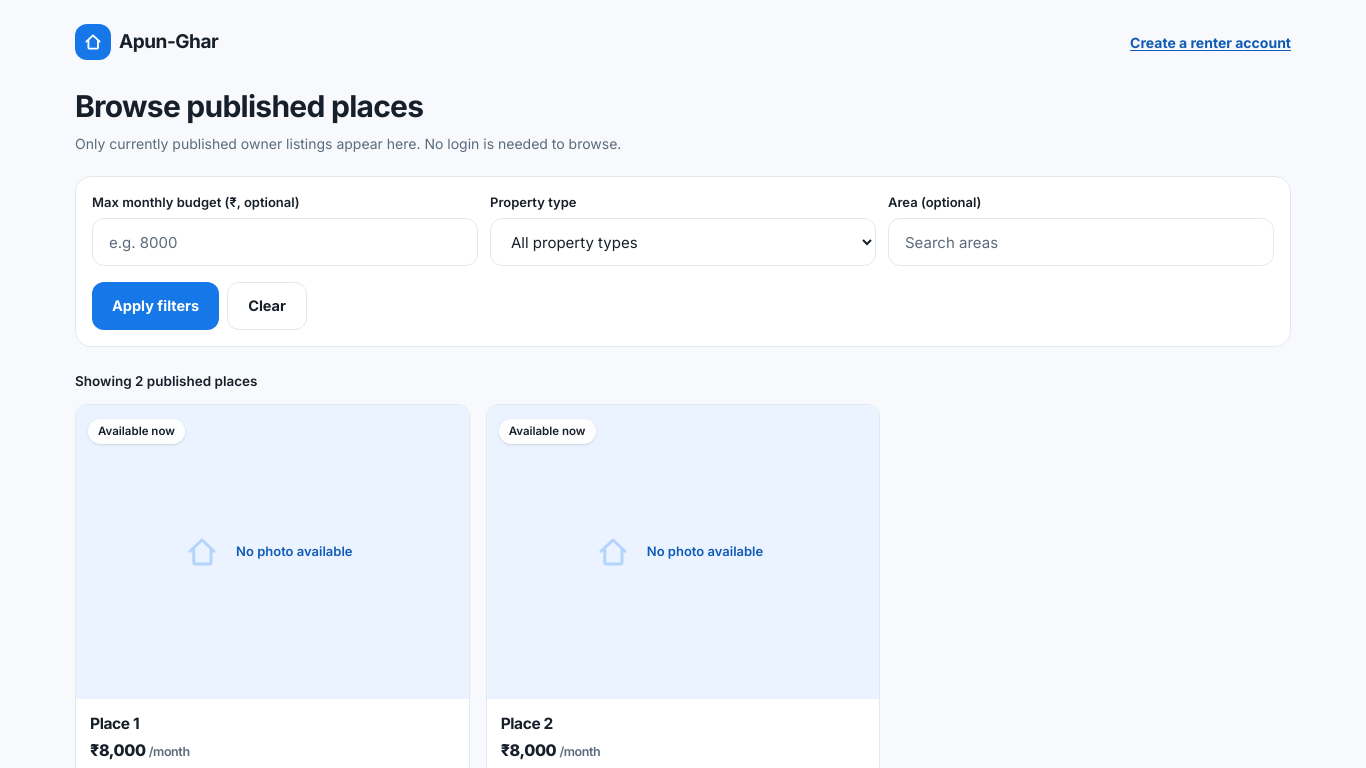
public browse page › clears the validation error
Check: the text "Showing 2 published places" is shown, box x1=75 y1=373 x2=258 y2=389
Type "abc" into the field with placeholder "e.g. 8000" at (285, 242), box x1=92 y1=218 x2=478 y2=266
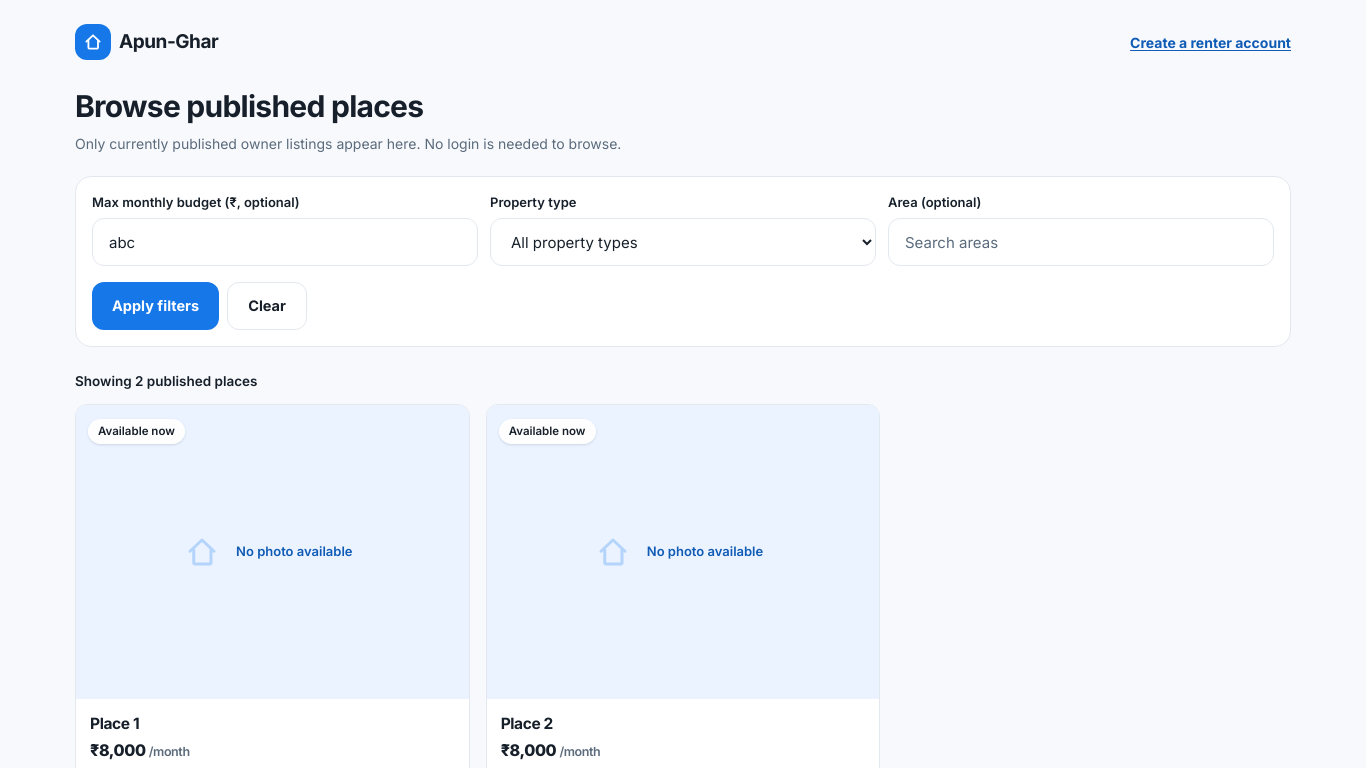
Click the button "Apply filters" at (156, 306), box x1=92 y1=282 x2=219 y2=330
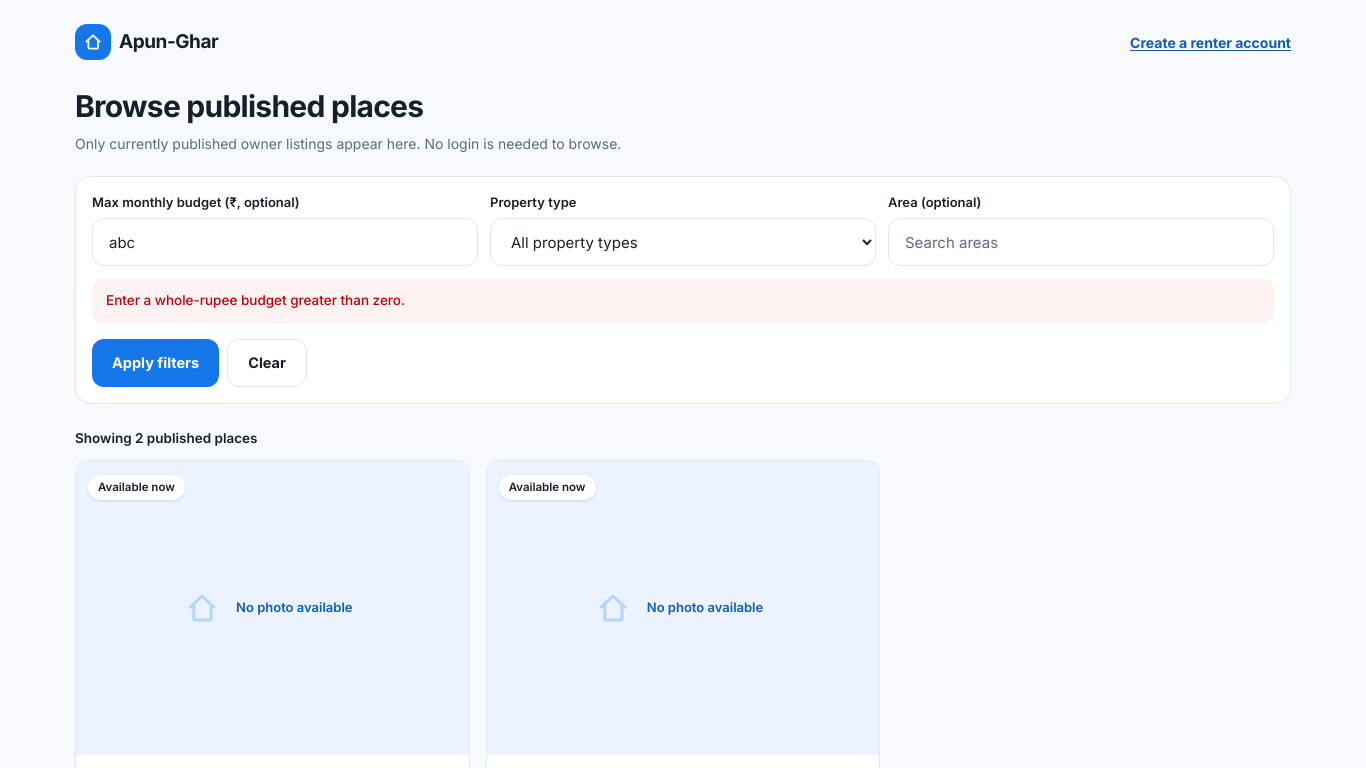
Check: the text "Enter a whole-rupee budget greater than zero." is shown, box x1=92 y1=278 x2=1274 y2=323
Click the button "Clear" at (267, 362), box x1=227 y1=338 x2=307 y2=386
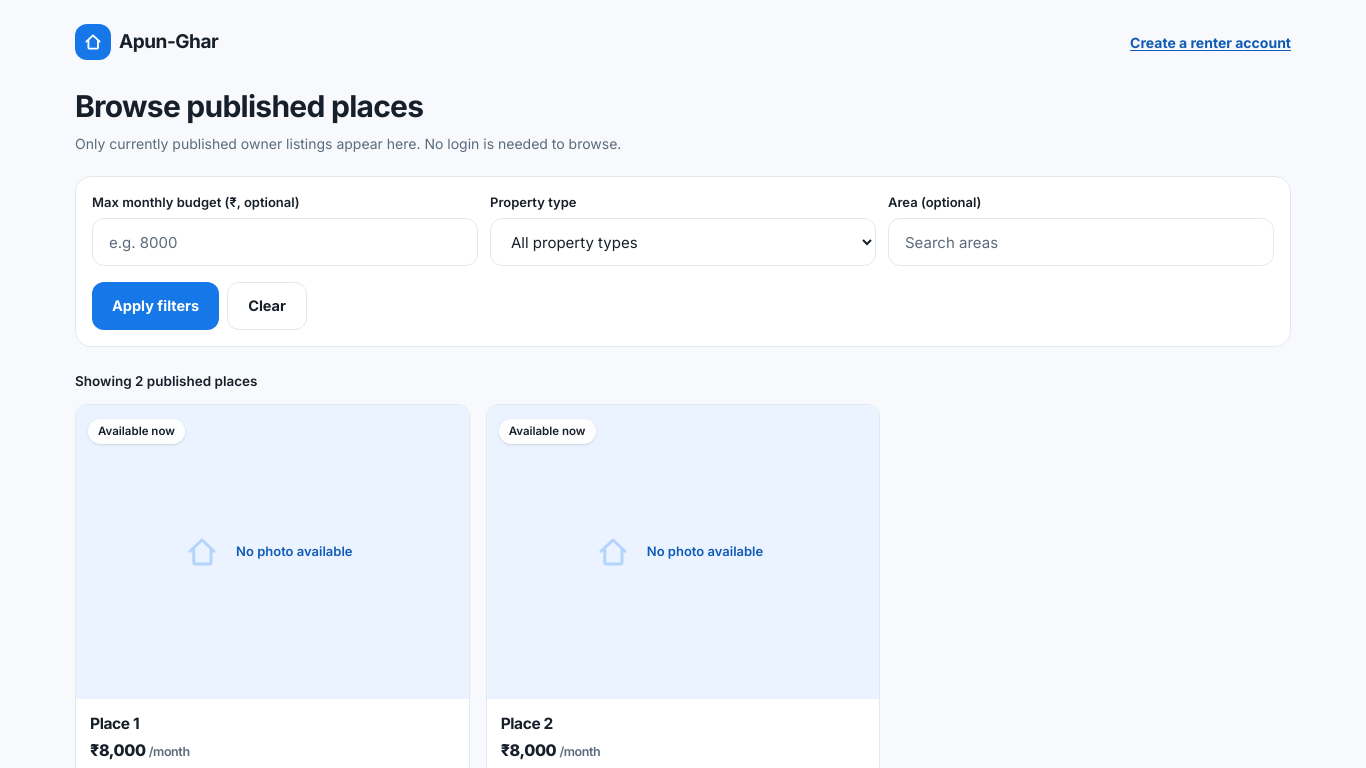
Check: the text "Enter a whole-rupee budget greater than zero." is gone
